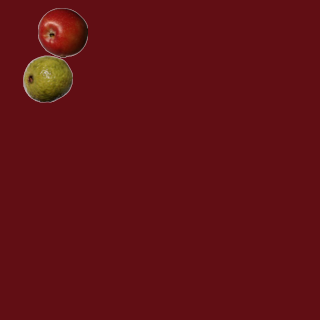Apple Braeburn: (37, 7, 87, 57)
Guava: (22, 53, 72, 103)
